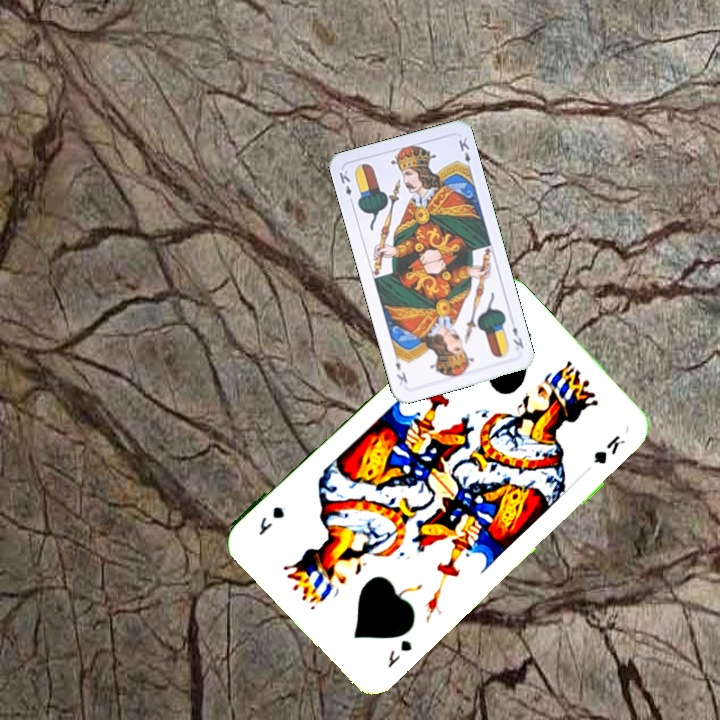EK: (335, 166, 356, 207), (509, 323, 526, 351)
GK: (383, 636, 415, 671)
